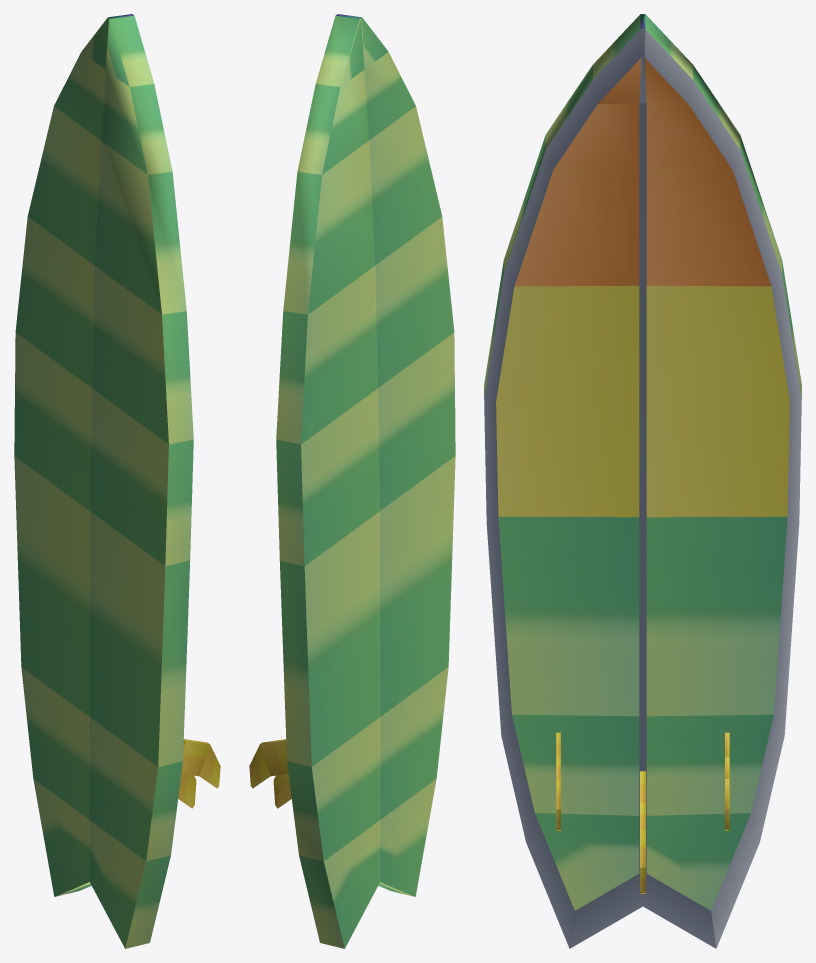
File: surfboard.glb
The picture shows the model from 3 angles, left to right: view 1: azimuth 30°, elevation 25°; view 2: azimuth 150°, elevation 25°; view 3: azimuth 270°, elevation 25°; orthographic projection. The views are drawn at different scales.
Visible parts, largest first — view 1: Cube; view 2: Cube; view 3: Cube.
Boxes of the visible parts, x1,y1,x2,y2 form: Cube: [14, 14, 220, 948]; Cube: [249, 14, 455, 948]; Cube: [484, 14, 801, 948].
Bounding box in the file's own units: 1.07 × 8.77 × 2.71.
1 material, 1 textured.
